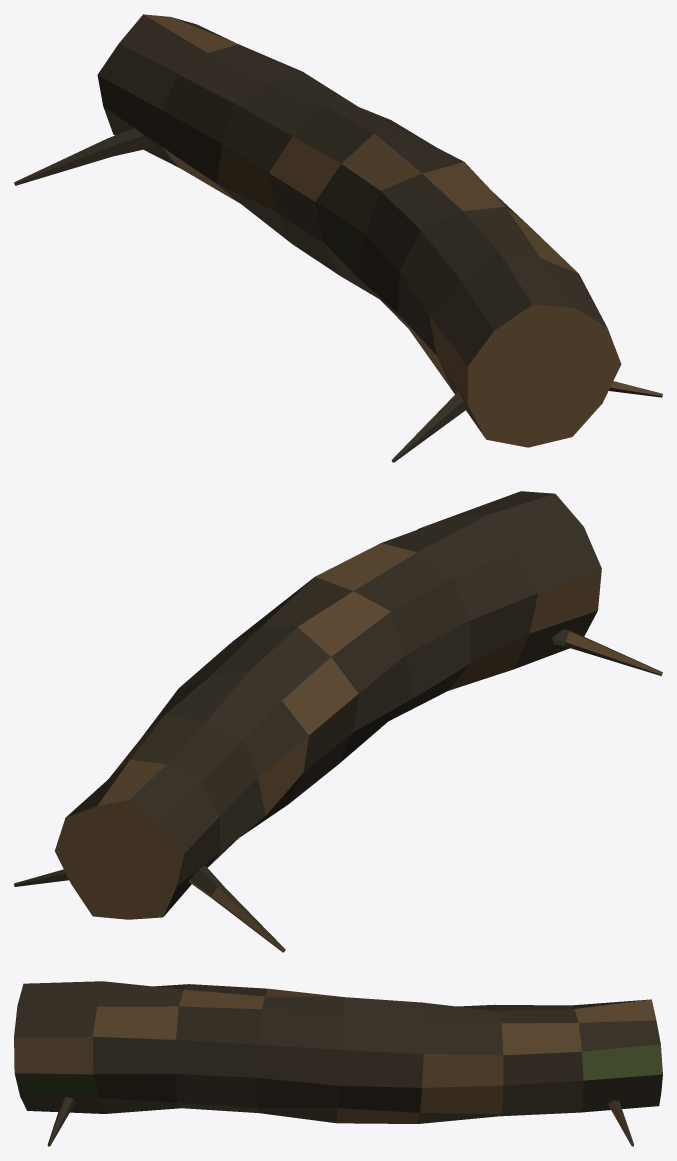
File: wood_001a_bent_fallen_log.glb
The picture shows the model from 3 angles, top to bottom: view 1: azimuth 30°, elevation 25°; view 2: azimuth 150°, elevation 25°; view 3: azimuth 270°, elevation 25°; orthographic projection. The views are drawn at different scales.
Parts seen in each view (by area): view 1: wood_001a_bent_fallen_log__mesh; view 2: wood_001a_bent_fallen_log__mesh; view 3: wood_001a_bent_fallen_log__mesh.
Boxes of the visible parts, <box> form: wood_001a_bent_fallen_log__mesh: <box>14,14,662,462</box>; wood_001a_bent_fallen_log__mesh: <box>14,491,662,952</box>; wood_001a_bent_fallen_log__mesh: <box>14,981,662,1146</box>.
Bounding box in the file's own units: 2.23 × 1.26 × 6.
